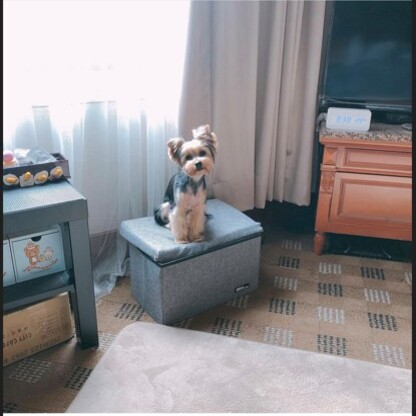yokshine: (157, 124, 219, 241)
